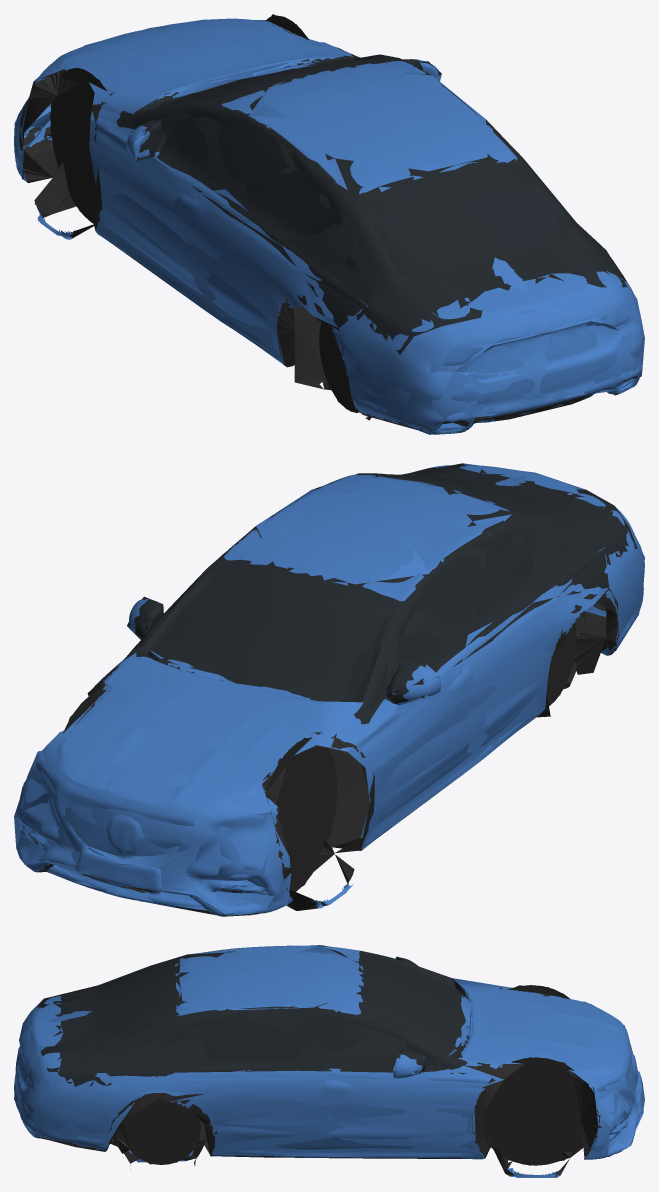
The model's file is mercedes-benz-e-class.glb.
3 renders of one model, top to bottom at view 1: azimuth 30°, elevation 25°; view 2: azimuth 150°, elevation 25°; view 3: azimuth 270°, elevation 25°, orthographic. The views are drawn at different scales.
Visible parts, largest first — view 1: body, far; view 2: body, far; view 3: body, far.
Part boxes in pixels (x1,y1,x2,y2): body: (14, 15, 643, 434); far: (14, 14, 644, 434); body: (16, 465, 644, 916); far: (14, 463, 644, 913); body: (14, 945, 644, 1177); far: (14, 945, 643, 1177).
Size of the model in its own units: 2.03 by 1.37 by 4.95.
